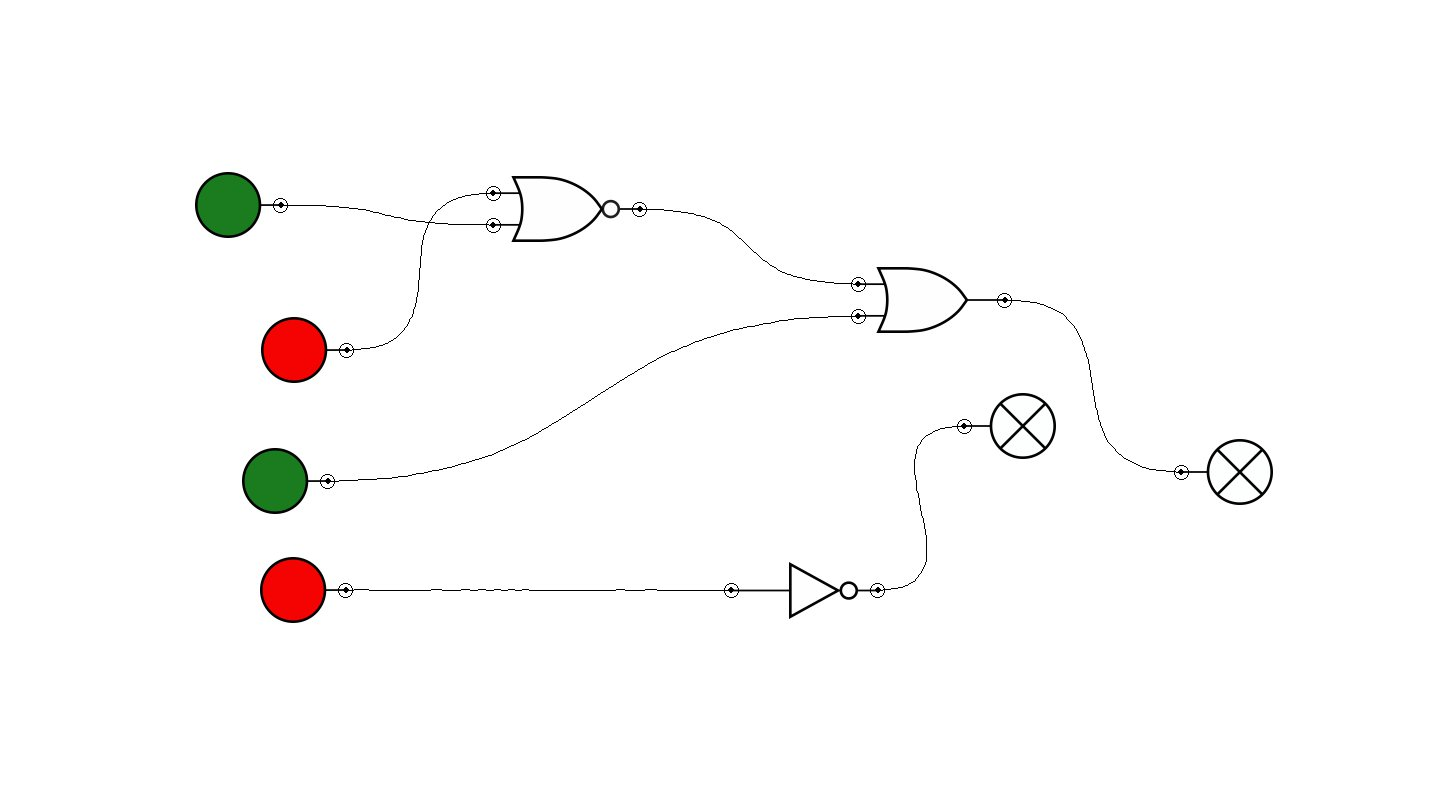bulb: (957, 393, 1056, 459), (1174, 439, 1273, 505)
nor: (486, 176, 647, 242)
not: (724, 562, 885, 619)
or: (851, 267, 1012, 333)
switch_False: (260, 557, 353, 623), (261, 317, 354, 383)
switch_True: (242, 448, 335, 514), (195, 172, 288, 238)
